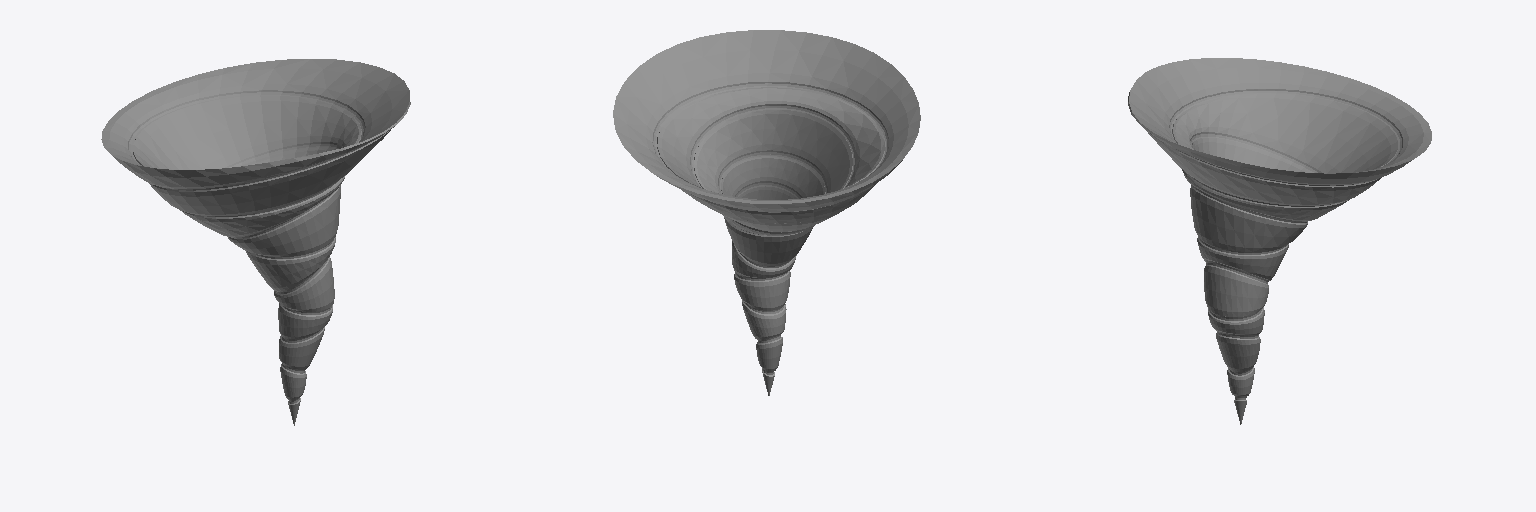
The model's file is tornado.obj.
3 views of the same model, side by side, from view 1: azimuth 30°, elevation 25°; view 2: azimuth 150°, elevation 25°; view 3: azimuth 270°, elevation 25° (orthographic).
Visible parts, largest first — view 1: tornado; view 2: tornado; view 3: tornado.
Part boxes in pixels (x1,y1,x2,y2): tornado: (101, 59, 410, 425); tornado: (613, 30, 920, 395); tornado: (1128, 58, 1431, 424).
Bounding box in the file's own units: 1.87 × 2.14 × 1.83.